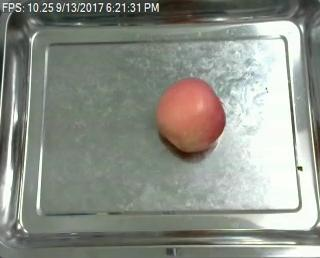apple: (155, 77, 226, 153)
